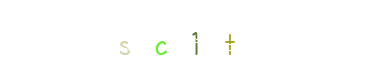1: (150, 0, 230, 80)
C: (120, 0, 200, 80)
S: (120, 0, 200, 80)
T: (177, 0, 257, 80)
